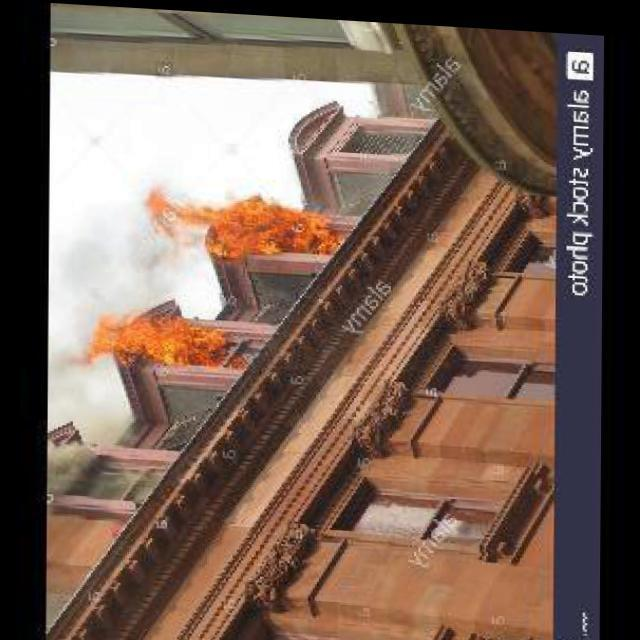fire: (114, 164, 346, 280), (92, 296, 238, 388)
